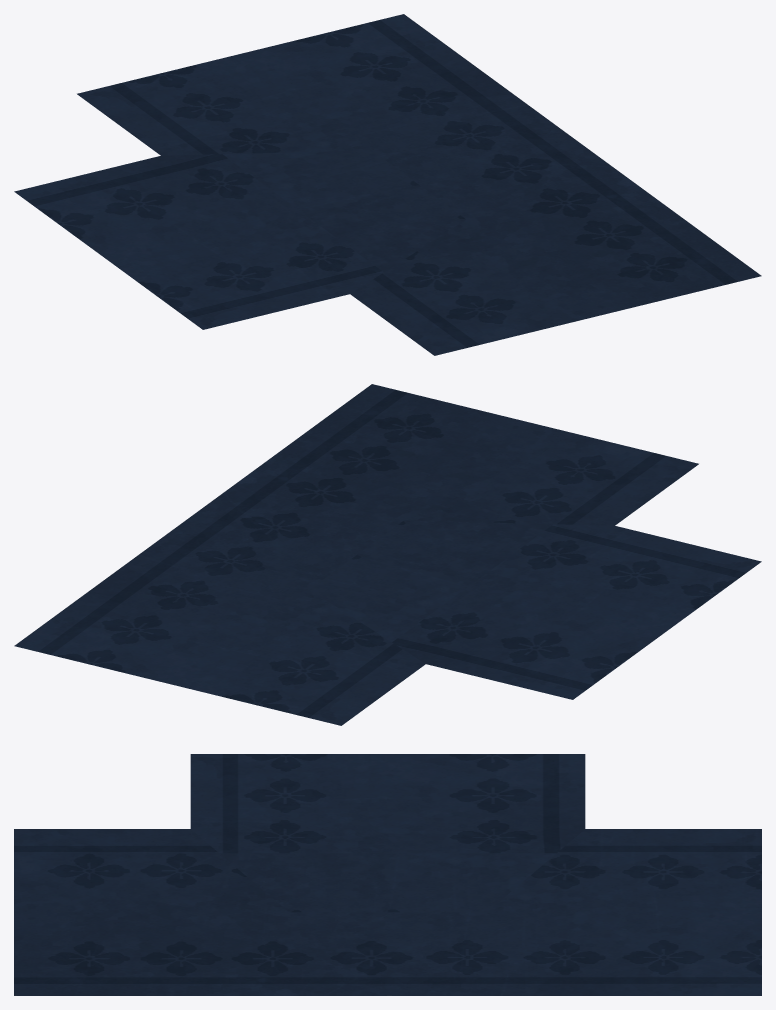
File: Carpet_T.fbx
3 renders of one model, top to bottom at view 1: azimuth 30°, elevation 25°; view 2: azimuth 150°, elevation 25°; view 3: azimuth 270°, elevation 25°, orthographic. The views are drawn at different scales.
Visible parts, largest first — view 1: Carpet_T; view 2: Carpet_T; view 3: Carpet_T.
Boxes of the visible parts, x1,y1,x2,y2 form: Carpet_T: (14, 14, 761, 355); Carpet_T: (14, 384, 761, 725); Carpet_T: (14, 754, 761, 995).
Bounding box in the file's own units: 383 × 3.05e-05 × 500.
1 material, 1 textured.
